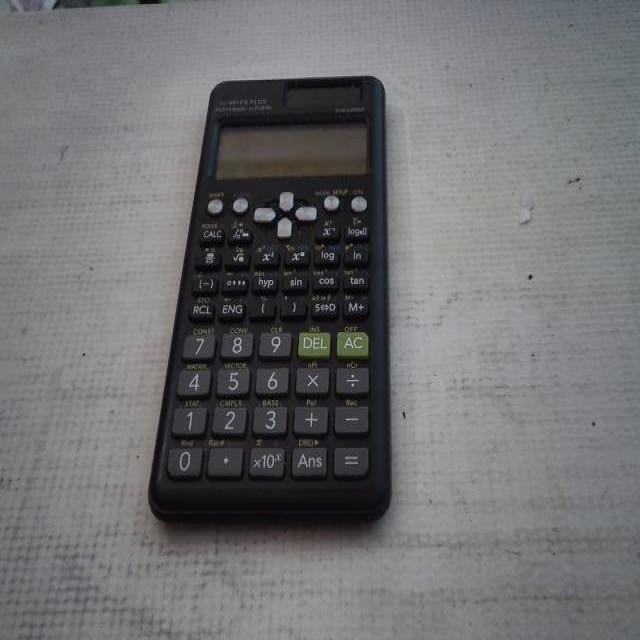Calculator: (145, 72, 394, 528)
